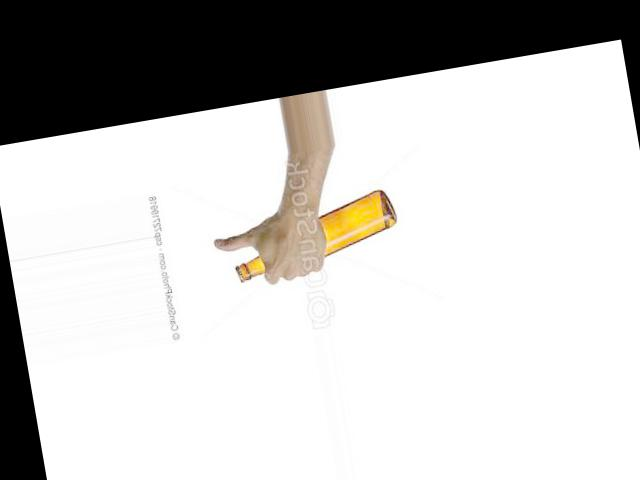beer: (227, 186, 402, 281)
